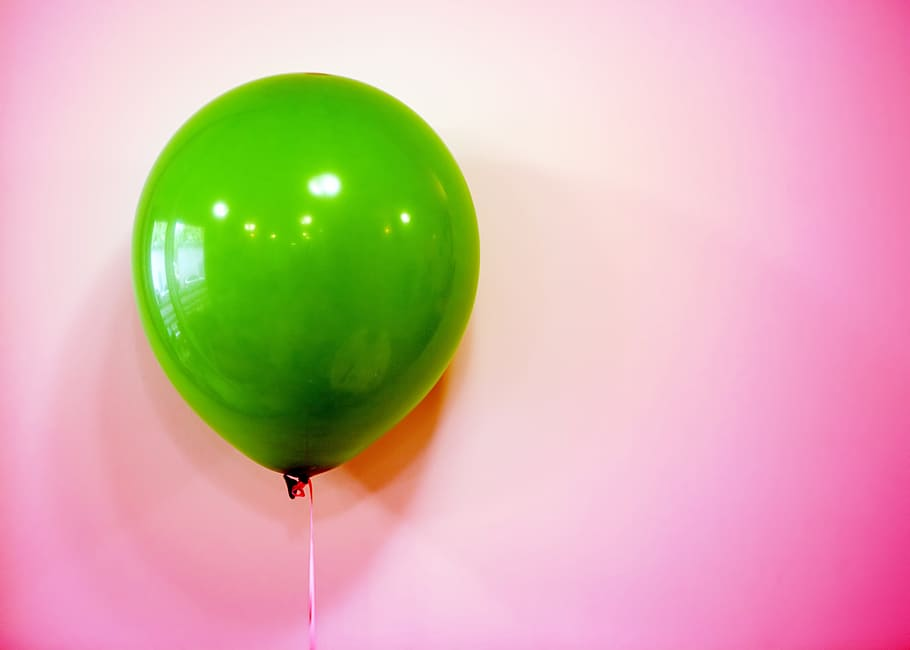Balloon: (132, 73, 482, 480)
